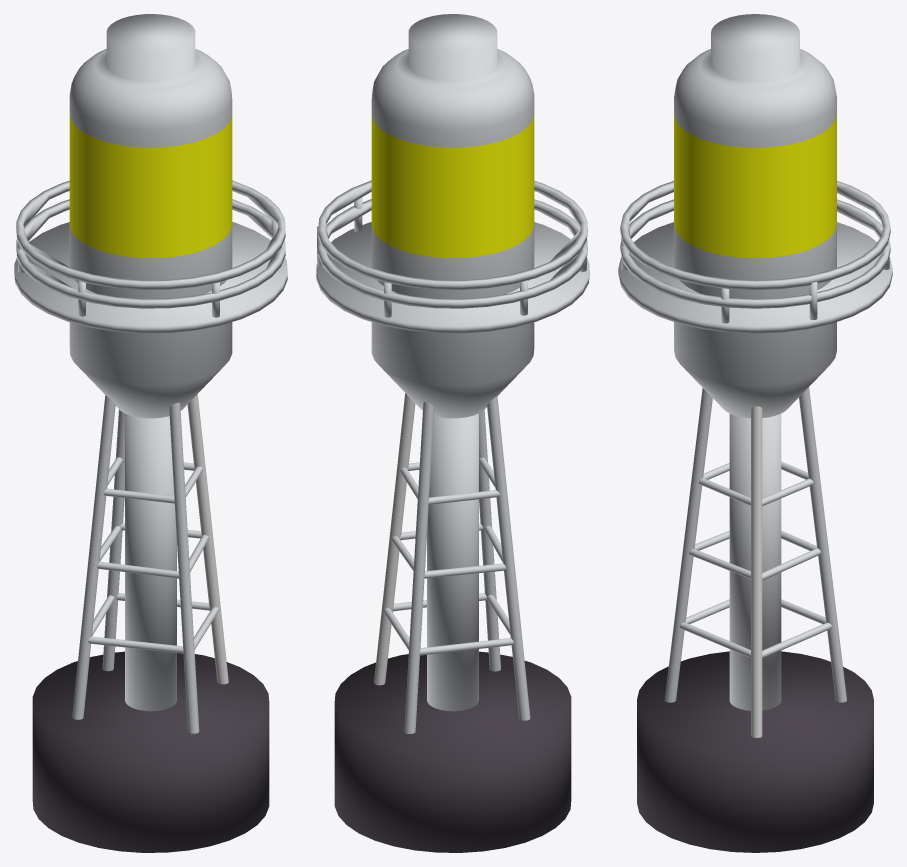
Rendered from lightHouse.fbx.
3 renders of one model, left to right at view 1: azimuth 30°, elevation 25°; view 2: azimuth 150°, elevation 25°; view 3: azimuth 270°, elevation 25°, orthographic.
Visible parts, largest first — view 1: Cylinder.002, Cylinder, Cylinder.001, Cylinder.003, Cylinder.020, Cylinder.021, Cylinder.007, Cylinder.005, Cylinder.004, Cylinder.006, Cylinder.018, Cylinder.012 (+1 smaller); view 2: Cylinder.002, Cylinder, Cylinder.001, Cylinder.003, Cylinder.020, Cylinder.021, Cylinder.006, Cylinder.005, Cylinder.004, Cylinder.007, Cylinder.019, Cylinder.013 (+1 smaller); view 3: Cylinder.002, Cylinder, Cylinder.001, Cylinder.003, Cylinder.020, Cylinder.021, Cylinder.004, Cylinder.006, Cylinder.007, Cylinder.017, Cylinder.016.
Part boxes in pixels (bbox=[...]): Cylinder.002: bbox=[69, 14, 232, 418]; Cylinder: bbox=[32, 651, 269, 852]; Cylinder.001: bbox=[125, 413, 176, 711]; Cylinder.003: bbox=[14, 222, 287, 333]; Cylinder.020: bbox=[16, 180, 285, 289]; Cylinder.021: bbox=[16, 199, 285, 308]; Cylinder.007: bbox=[169, 402, 199, 733]; Cylinder.005: bbox=[72, 395, 115, 719]; Cylinder.004: bbox=[187, 394, 228, 684]; Cylinder.006: bbox=[102, 409, 124, 671]; Cylinder.018: bbox=[88, 636, 183, 653]; Cylinder.012: bbox=[97, 561, 179, 578]; Cylinder.002: bbox=[371, 14, 534, 418]; Cylinder: bbox=[334, 651, 571, 852]; Cylinder.001: bbox=[427, 413, 478, 711]; Cylinder.003: bbox=[316, 222, 589, 333]; Cylinder.020: bbox=[318, 180, 587, 289]; Cylinder.021: bbox=[318, 199, 587, 308]; Cylinder.006: bbox=[404, 402, 434, 733]; Cylinder.005: bbox=[487, 396, 530, 720]; Cylinder.004: bbox=[374, 393, 415, 685]; Cylinder.007: bbox=[479, 410, 500, 671]; Cylinder.019: bbox=[419, 638, 513, 655]; Cylinder.013: bbox=[424, 563, 506, 578]; Cylinder.002: bbox=[674, 14, 836, 418]; Cylinder: bbox=[637, 651, 873, 852]; Cylinder.001: bbox=[729, 414, 781, 710]; Cylinder.003: bbox=[618, 222, 892, 333]; Cylinder.020: bbox=[620, 181, 890, 289]; Cylinder.021: bbox=[620, 199, 890, 308]; Cylinder.004: bbox=[751, 406, 762, 737]; Cylinder.006: bbox=[799, 387, 846, 702]; Cylinder.007: bbox=[664, 388, 712, 702]; Cylinder.017: bbox=[679, 622, 751, 657]; Cylinder.016: bbox=[762, 622, 831, 658].
Bounding box in the file's own units: 567 × 1756 × 567.
